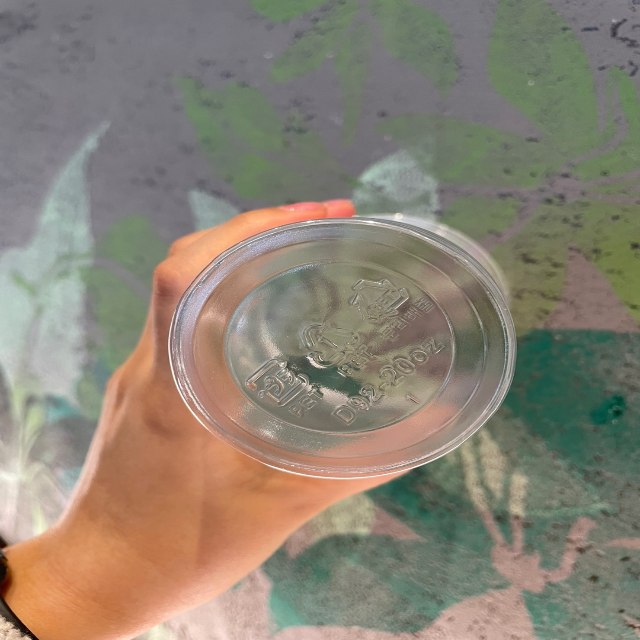pet: (349, 268, 439, 342), (235, 351, 327, 420), (295, 314, 382, 380)
